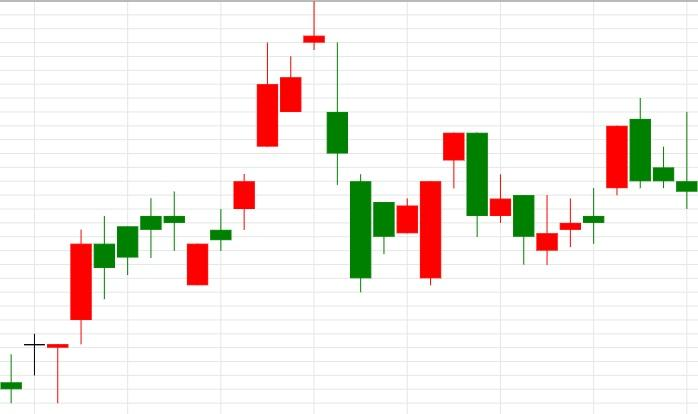bearish_engulfing_fall: (350, 132, 489, 292)
